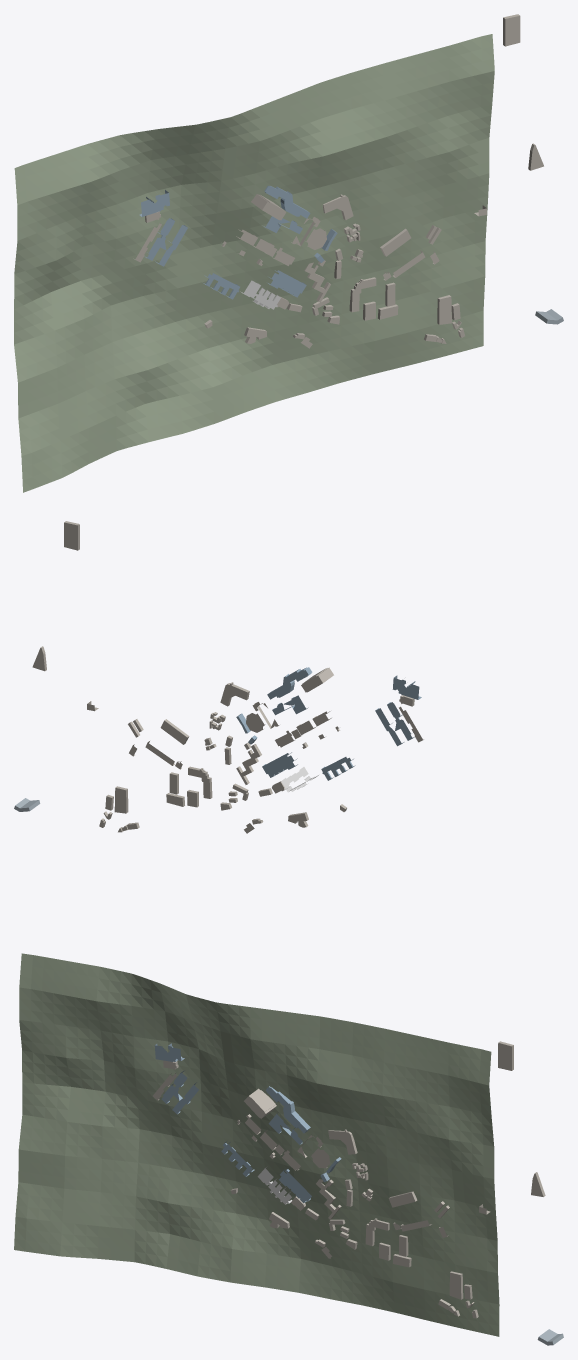
Rendered from kookmin_campus_terrain_buildings_v2.glb.
The picture shows the model from 3 angles, top to bottom: view 1: azimuth 30°, elevation 25°; view 2: azimuth 150°, elevation 25°; view 3: azimuth 330°, elevation 25°; orthographic projection. The views are drawn at different scales.
Visible parts, largest first — view 1: DEM terrain (90m native), building_172918337; view 2: building_172918337, building_172246894; view 3: DEM terrain (90m native), building_172246894, building_172918337, building_172246889.
Part boxes in pixels (x1=…): DEM terrain (90m native): x1=14, y1=34, x2=494, y2=492; building_172918337: x1=144, y1=218, x2=187, y2=266; building_172918337: x1=375, y1=702, x2=414, y2=746; building_172246894: x1=267, y1=667, x2=312, y2=699; DEM terrain (90m native): x1=14, y1=953, x2=499, y2=1336; building_172246894: x1=265, y1=1086, x2=310, y2=1133; building_172918337: x1=161, y1=1070, x2=198, y2=1114; building_172246889: x1=244, y1=1088, x2=276, y2=1118.
Bounding box in the file's own units: 1506 × 847 × 168.
